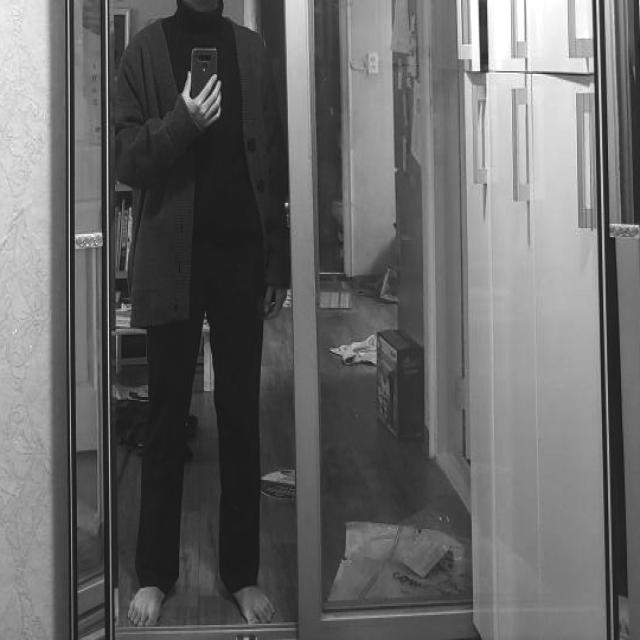cardigan: (115, 13, 289, 330)
cottonpants: (137, 247, 263, 594)
